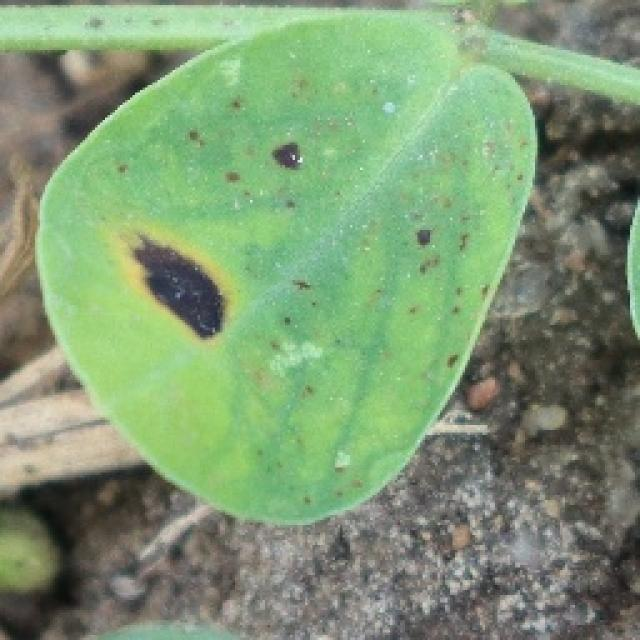Yellowish: (76, 52, 332, 370), (363, 162, 525, 422)
